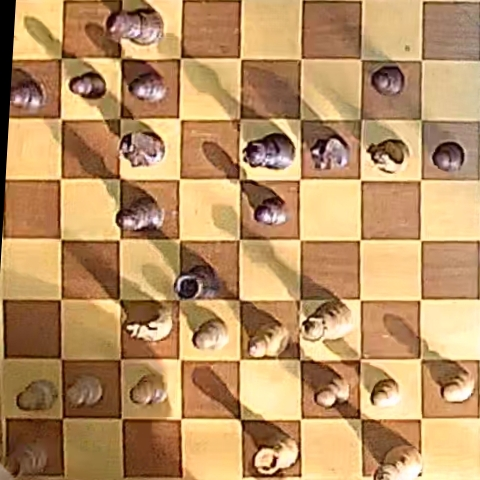black-bishop: (117, 196, 163, 231)
black-king: (107, 8, 164, 46)
black-knight: (120, 131, 165, 167), (309, 136, 349, 170)
black-pawn: (10, 71, 47, 110), (128, 72, 167, 102), (371, 65, 405, 96), (70, 72, 107, 99), (432, 142, 465, 172), (254, 198, 288, 226)
black-queen: (243, 134, 294, 170)
black-rook: (174, 265, 219, 299)
white-bishop: (249, 324, 289, 358)
white-king: (376, 445, 422, 480)
white-knight: (124, 302, 173, 342), (367, 139, 409, 173)
white-pawn: (439, 366, 476, 403), (17, 380, 58, 411), (314, 374, 351, 408), (66, 375, 103, 408), (131, 374, 168, 406), (193, 319, 228, 351), (371, 378, 401, 408)
white-queen: (303, 300, 352, 341)
white-rook: (253, 436, 297, 476), (6, 440, 48, 478)
